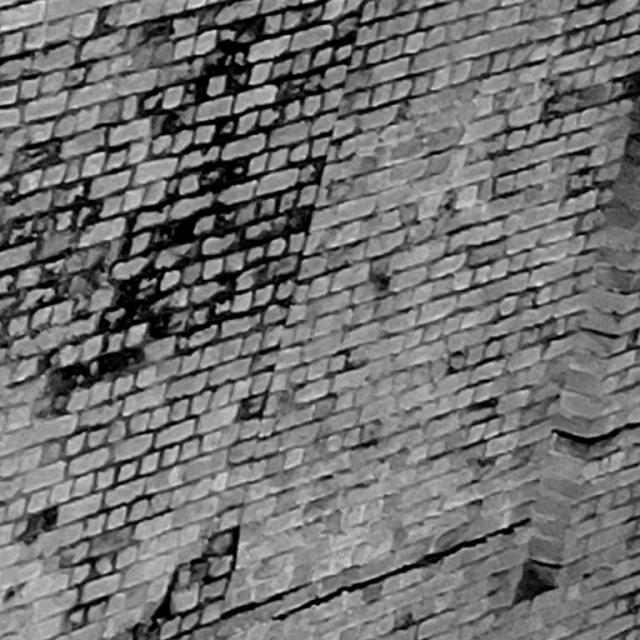crack: (275, 516, 531, 618), (132, 524, 238, 640), (220, 582, 311, 618), (550, 423, 638, 444)
